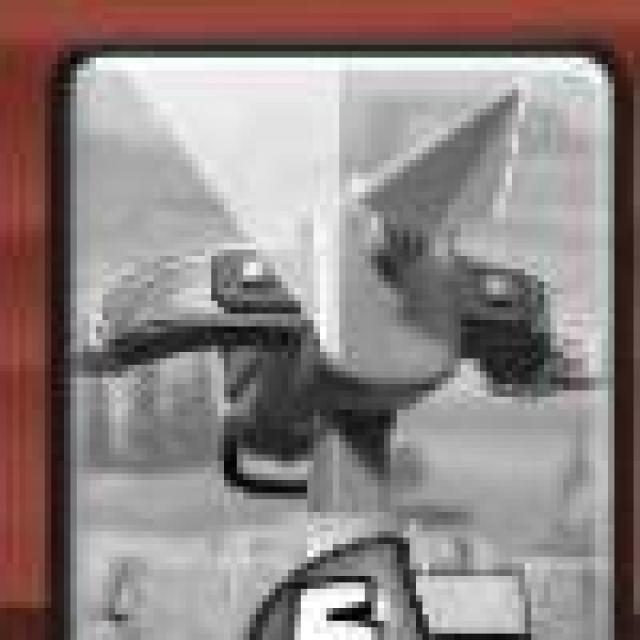X_Bow: (61, 54, 622, 640)
